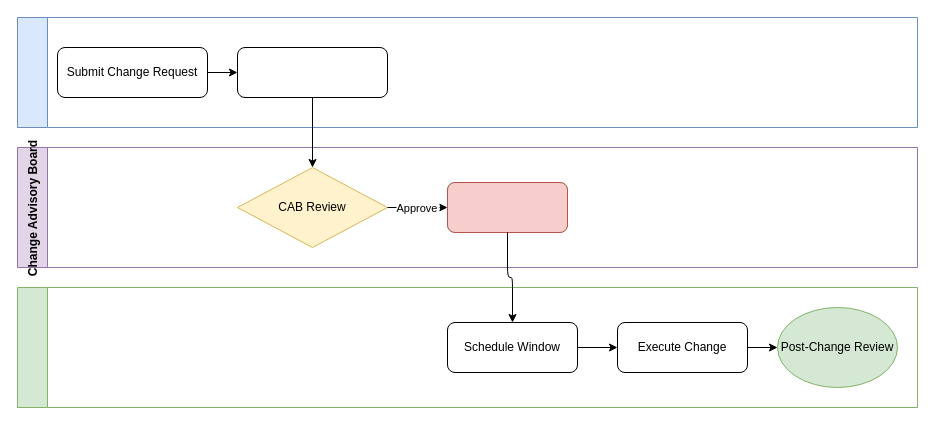
Some shapes in this 935 by 425 pixel diagram are drawn without their labels. Each missing label, with the box of its shape:
IT Implementation: (16, 286, 918, 408)
Reject / Defer: (446, 182, 568, 232)
Requestor: (16, 16, 918, 128)
Risk Assessment + BIA: (236, 46, 388, 98)
